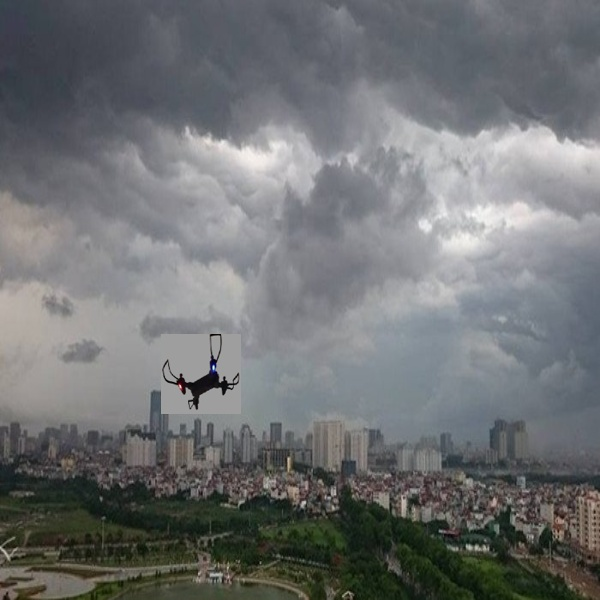drone: (157, 332, 240, 412)
